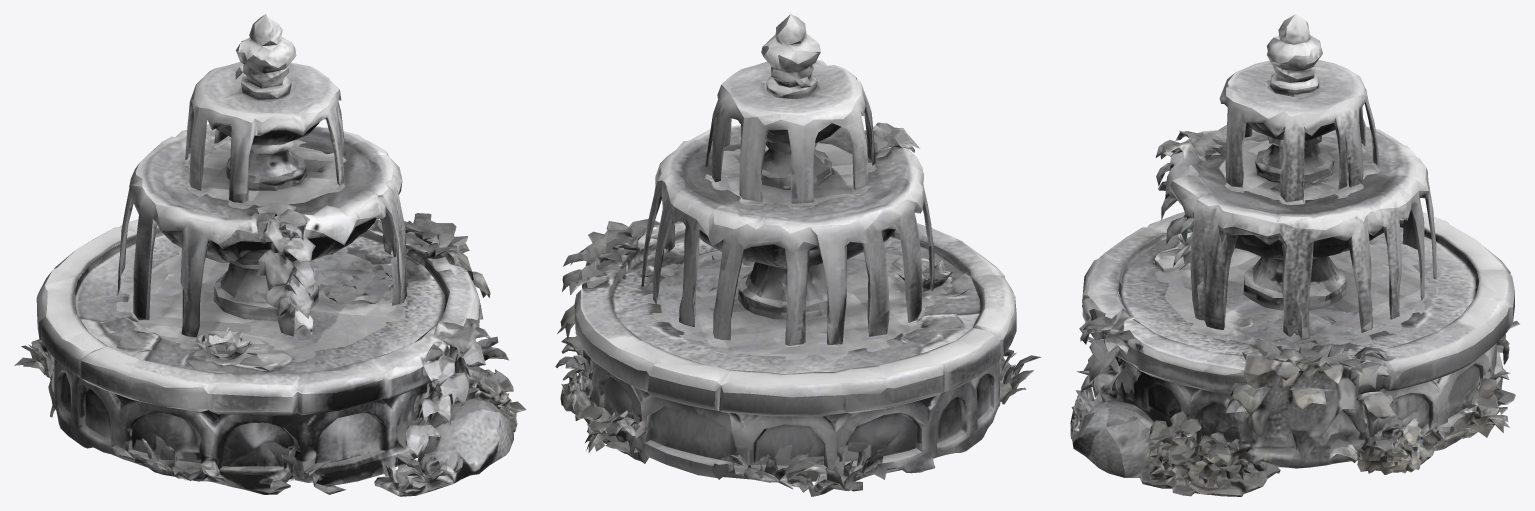
File: fountain-silver.glb
The picture shows the model from 3 angles, left to right: view 1: azimuth 30°, elevation 25°; view 2: azimuth 150°, elevation 25°; view 3: azimuth 270°, elevation 25°; orthographic projection. The views are drawn at different scales.
Parts seen in each view (by area): view 1: geometry_0; view 2: geometry_0; view 3: geometry_0.
Boxes of the visible parts, x1,y1,x2,y2 form: geometry_0: (14, 14, 526, 496); geometry_0: (555, 14, 1040, 496); geometry_0: (1070, 14, 1520, 496).
Size of the model in its own units: 1.55 by 1.5 by 1.55.
1 material, 1 textured.
